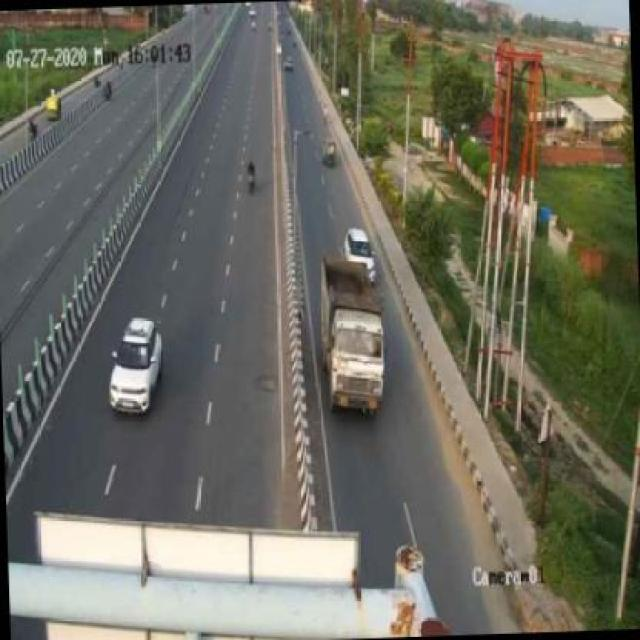car: (102, 312, 169, 418), (340, 224, 378, 276), (320, 137, 340, 172)
